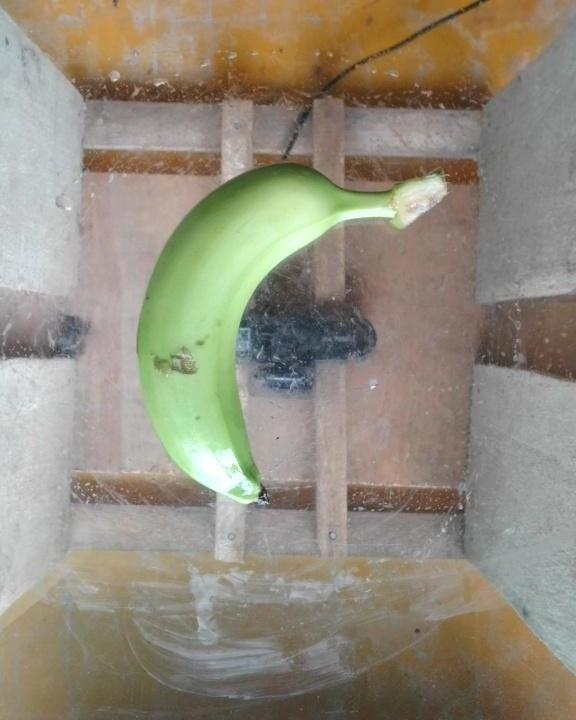CLASS B: (124, 159, 465, 519)
Class A: (145, 342, 204, 389)
